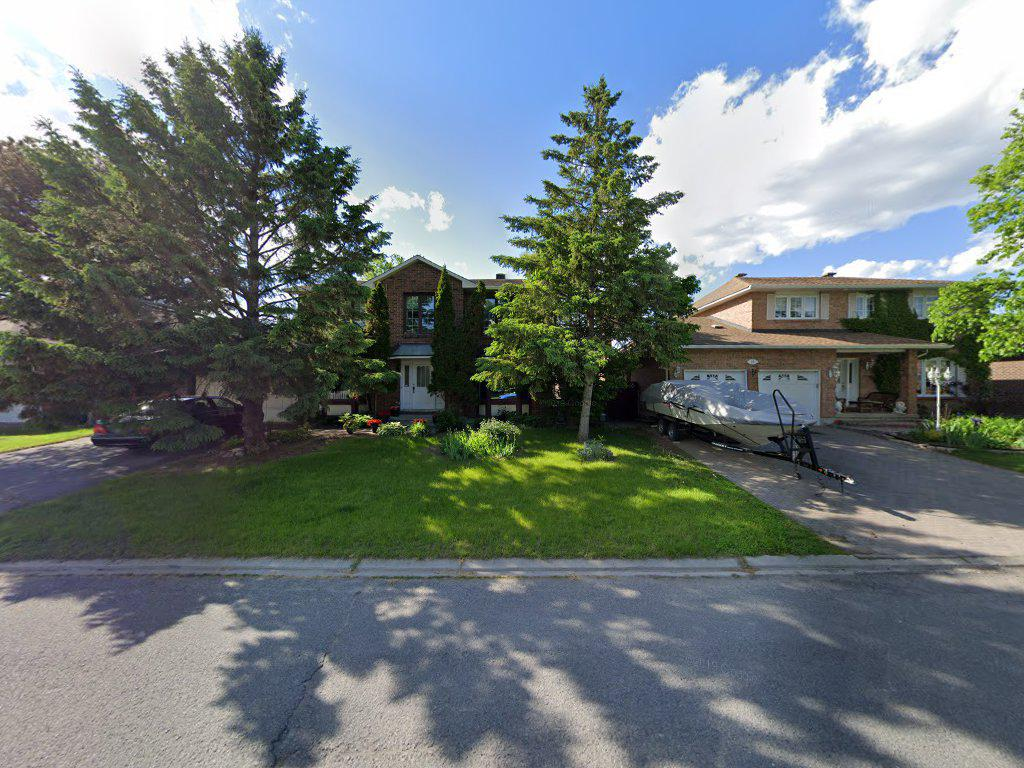trunk: (242, 401, 265, 458)
